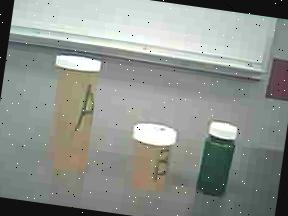Bottle A: (33, 47, 120, 182)
Bottle B: (120, 115, 184, 199)
Bottle C: (188, 114, 251, 209)
